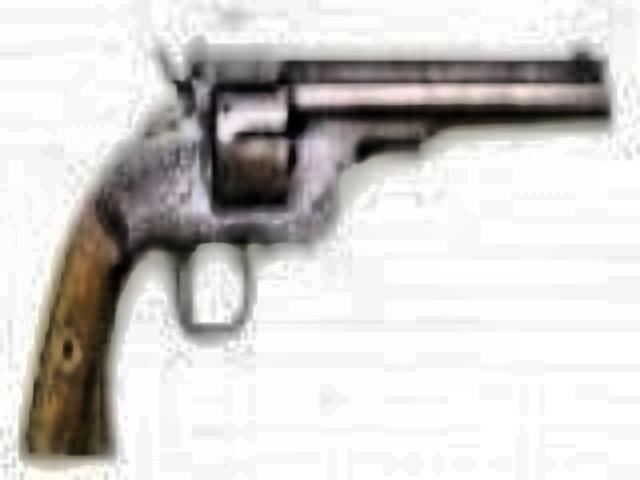pistol: (28, 40, 600, 440)
